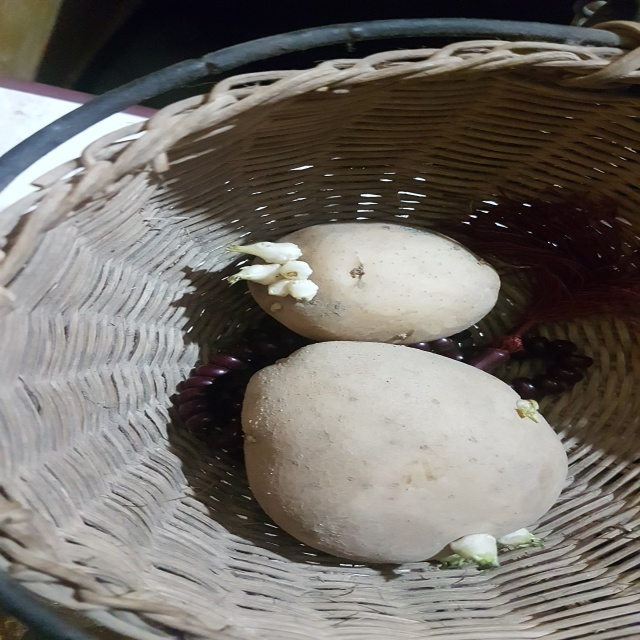potato: (225, 335, 575, 569), (218, 210, 515, 348)
